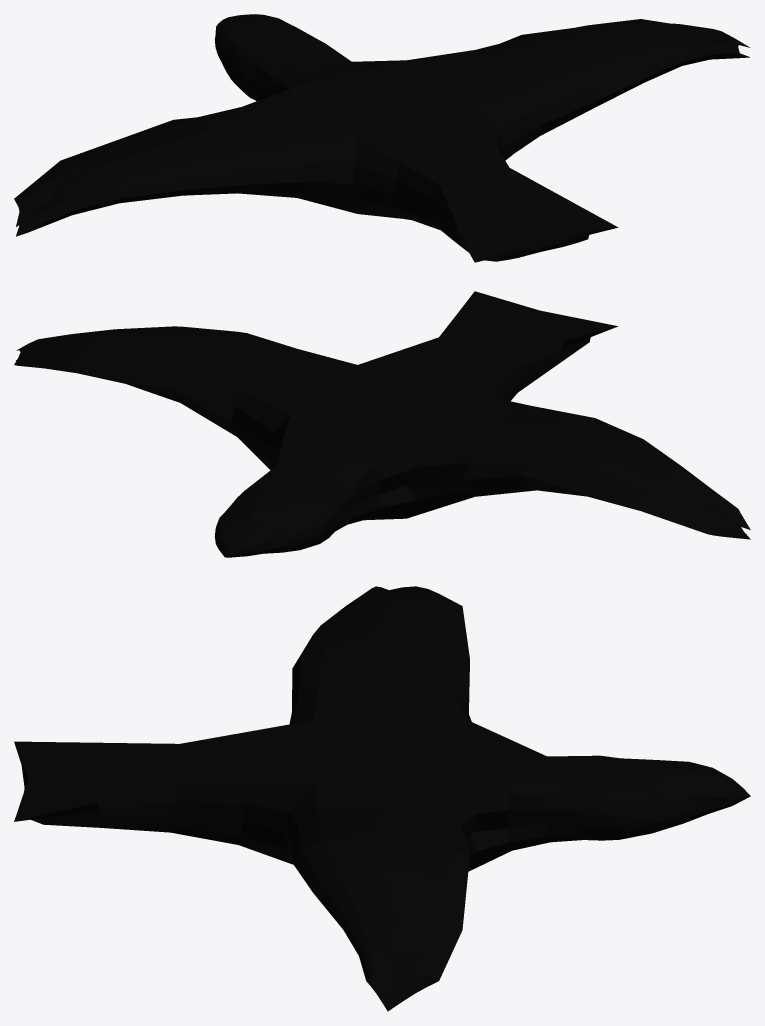
Rendered from Bird_Object.obj.
3 renders of one model, top to bottom at view 1: azimuth 30°, elevation 25°; view 2: azimuth 150°, elevation 25°; view 3: azimuth 270°, elevation 25°, orthographic. The views are drawn at different scales.
Parts seen in each view (by area): view 1: Cube_Cube.005; view 2: Cube_Cube.005; view 3: Cube_Cube.005.
Part boxes in pixels (<box>): Cube_Cube.005: <box>14,14,750,262</box>; Cube_Cube.005: <box>14,291,750,557</box>; Cube_Cube.005: <box>14,586,750,1011</box>.
Bounding box in the file's own units: 12.62 × 1.54 × 9.57.
